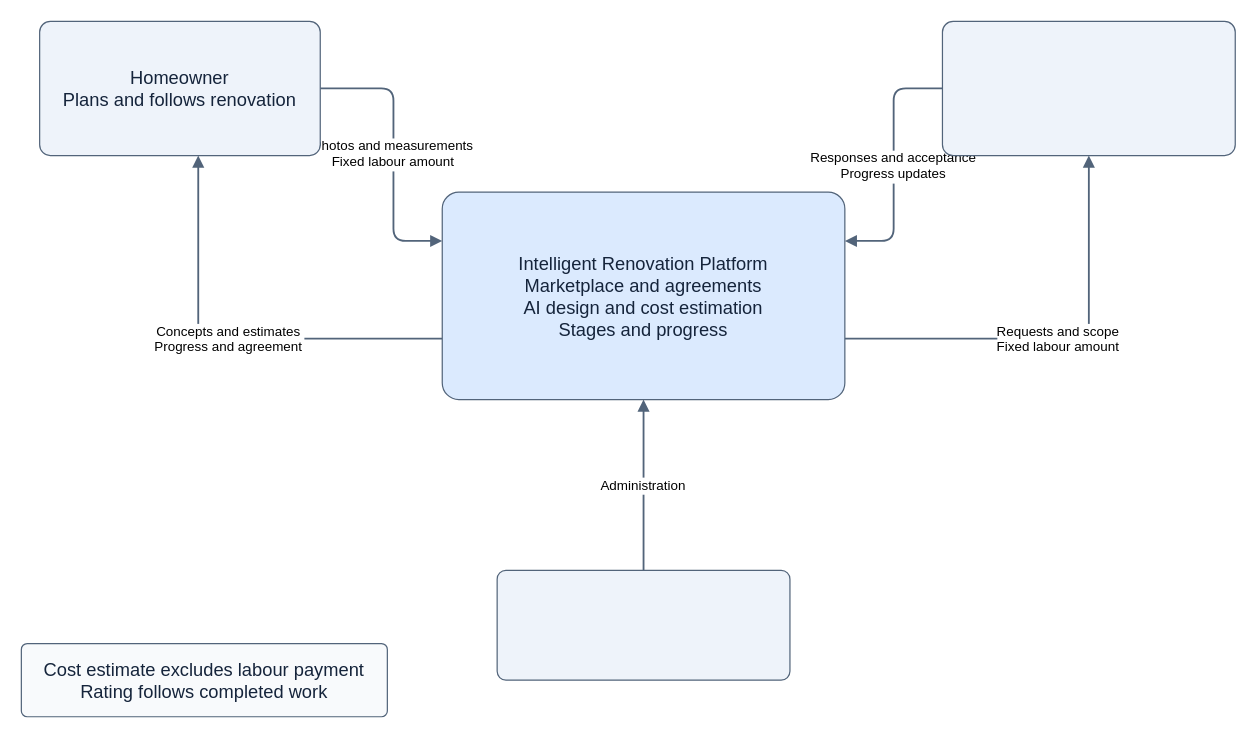
This 1257x738 diagram has some shape labels left out. Here are the shapes that lost their labels. From the top down, the centre of each, then its label:
At (1088,88): "Contractor or team leader Accepts scope and reports work".
At (643,624): "Platform administrator Manages access and records".
